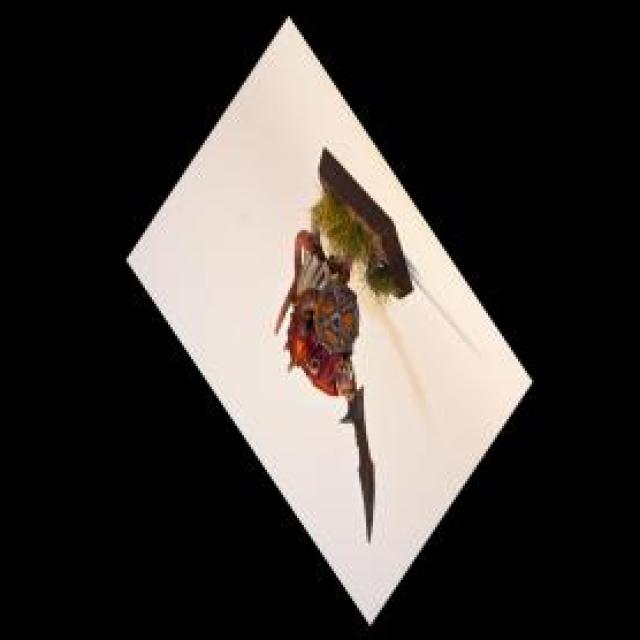knife: (343, 355, 382, 534)
